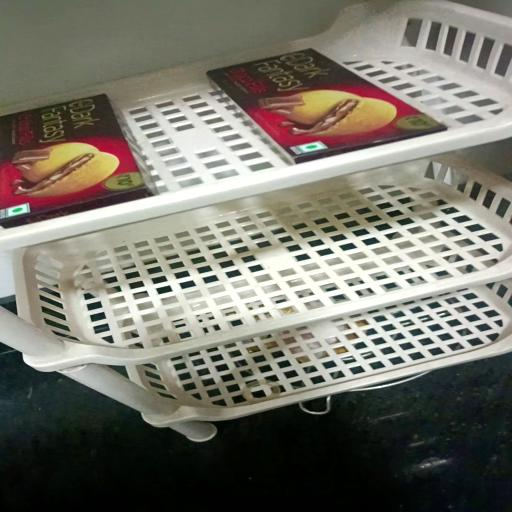Choco Fills: (211, 48, 451, 163), (0, 92, 152, 224)
